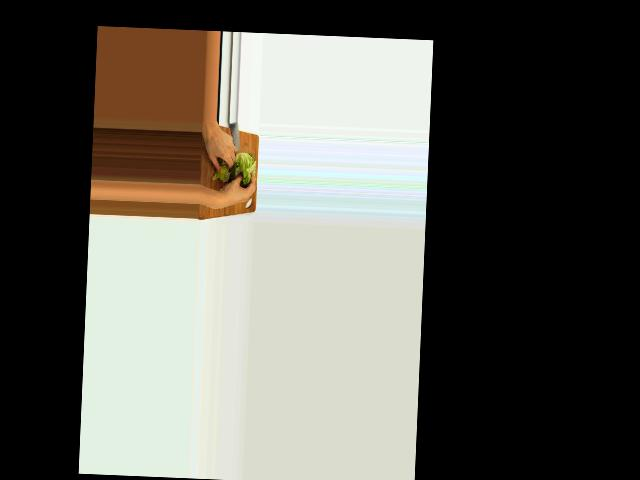lettuce: (231, 151, 255, 185)
